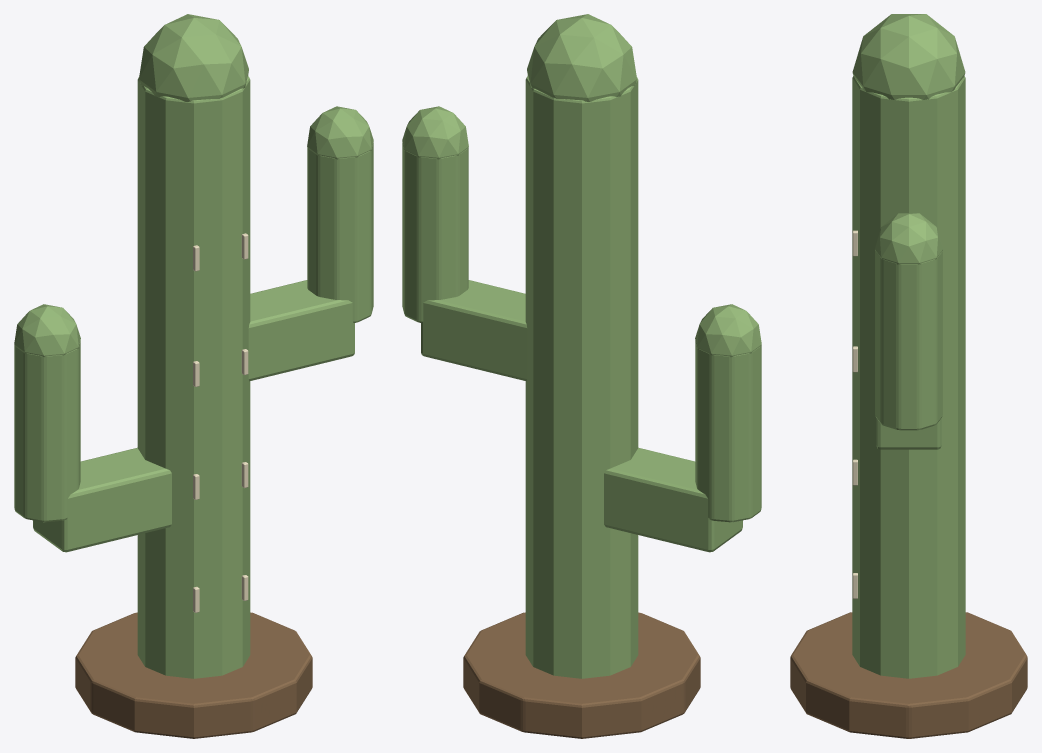
The model's file is S068_branch_cactus.glb.
3 renders of one model, left to right at view 1: azimuth 30°, elevation 25°; view 2: azimuth 150°, elevation 25°; view 3: azimuth 270°, elevation 25°, orthographic.
Parts seen in each view (by area): view 1: cactus_trunk, cactus_base, upturned_arm, upturned_arm.001, cactus_side_arm, cactus_side_arm.001, cactus_top, arm_cap.001, arm_cap; view 2: cactus_trunk, cactus_base, upturned_arm, upturned_arm.001, cactus_side_arm, cactus_side_arm.001, cactus_top, arm_cap.001, arm_cap; view 3: cactus_trunk, cactus_base, upturned_arm.001, cactus_top, arm_cap.001, cactus_side_arm.001.
Boxes of the visible parts, x1=… form: cactus_trunk: x1=137, y1=76, x2=250, y2=678; cactus_base: x1=75, y1=612, x2=312, y2=738; upturned_arm: x1=14, y1=340, x2=80, y2=522; upturned_arm.001: x1=307, y1=143, x2=373, y2=322; cactus_side_arm: x1=33, y1=447, x2=171, y2=552; cactus_side_arm.001: x1=248, y1=280, x2=354, y2=381; cactus_top: x1=139, y1=14, x2=248, y2=101; arm_cap.001: x1=307, y1=106, x2=373, y2=159; arm_cap: x1=14, y1=304, x2=80, y2=357; cactus_trunk: x1=525, y1=76, x2=638, y2=678; cactus_base: x1=463, y1=612, x2=700, y2=738; upturned_arm: x1=695, y1=340, x2=761, y2=522; upturned_arm.001: x1=402, y1=143, x2=468, y2=322; cactus_side_arm: x1=604, y1=447, x2=742, y2=552; cactus_side_arm.001: x1=421, y1=280, x2=527, y2=381; cactus_top: x1=527, y1=14, x2=636, y2=101; arm_cap.001: x1=402, y1=106, x2=468, y2=159; arm_cap: x1=695, y1=304, x2=761, y2=357; cactus_trunk: x1=852, y1=76, x2=965, y2=678; cactus_base: x1=790, y1=612, x2=1027, y2=738; upturned_arm.001: x1=875, y1=251, x2=942, y2=430; cactus_top: x1=852, y1=14, x2=965, y2=99; arm_cap.001: x1=875, y1=213, x2=942, y2=264; cactus_side_arm.001: x1=876, y1=418, x2=941, y2=449.
Size of the model in its own units: 1.36 by 2.5 by 0.797.
